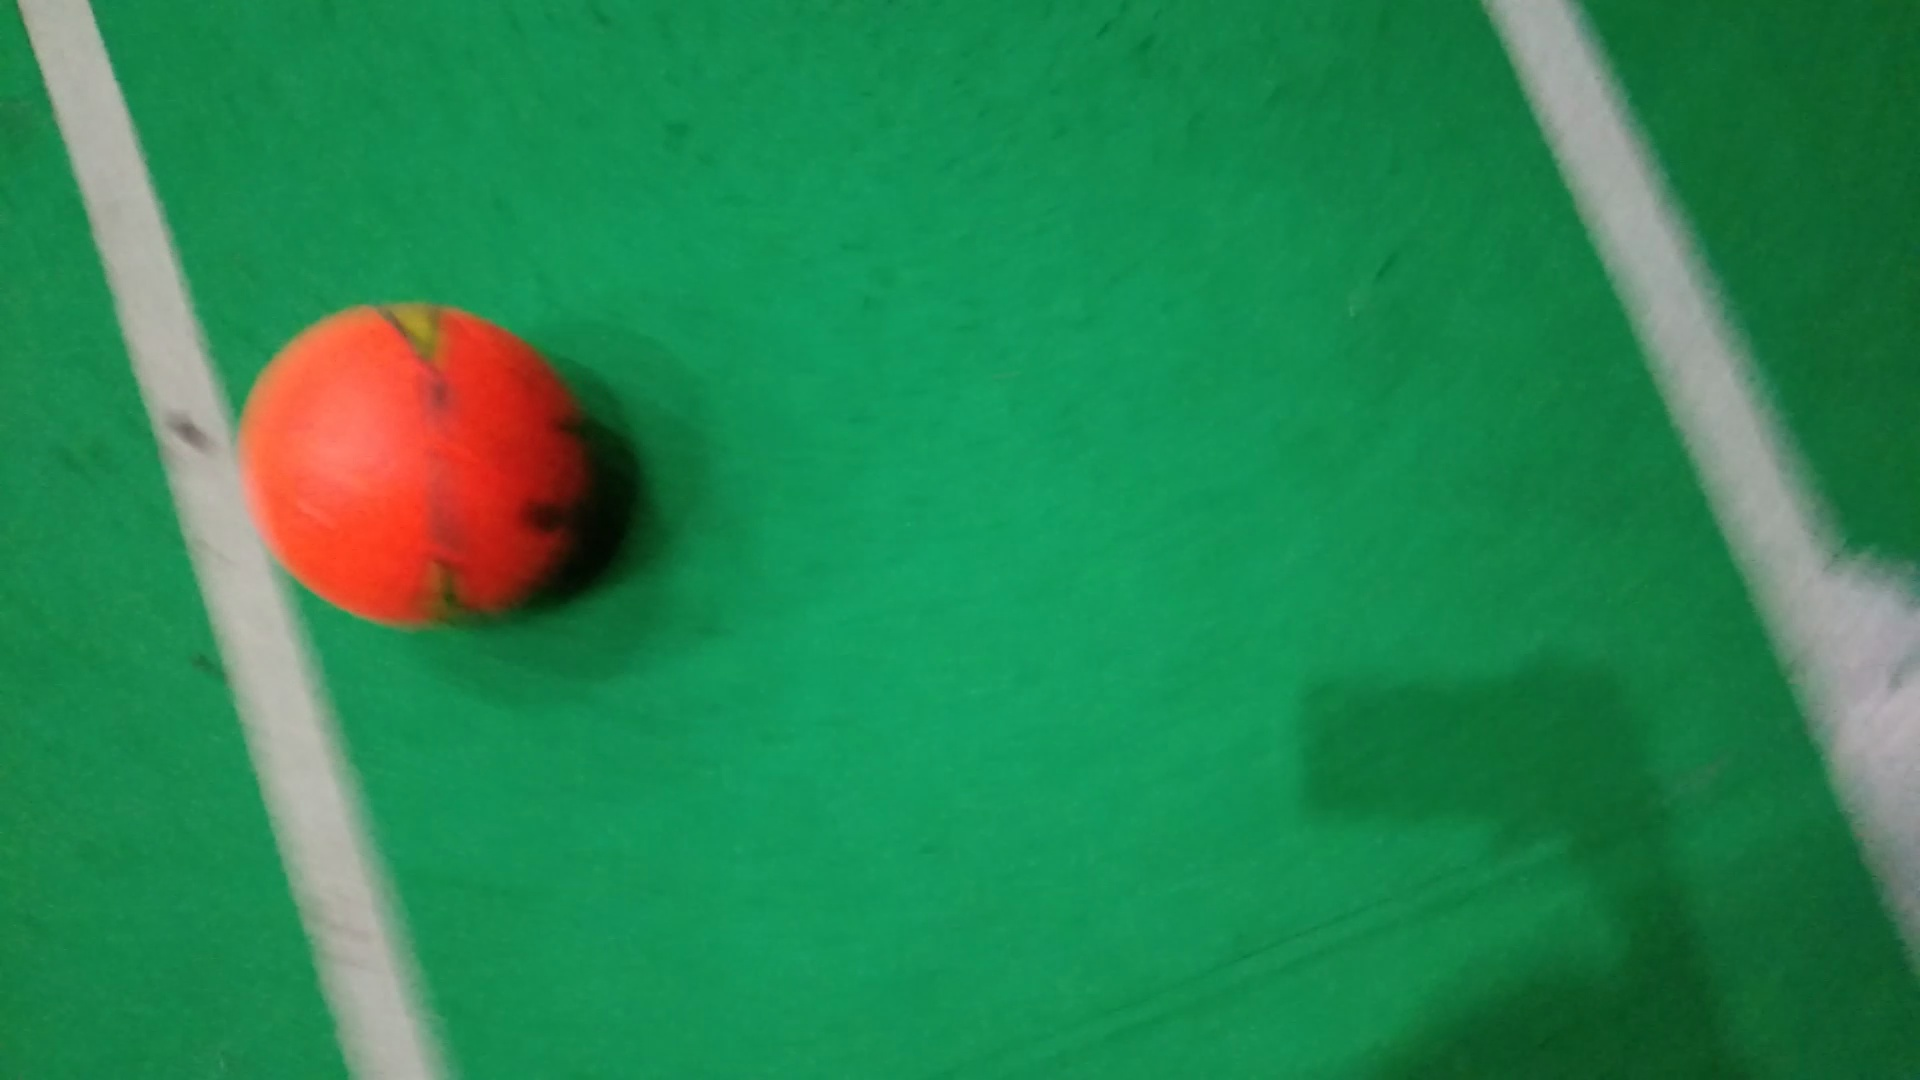bola: (232, 295, 607, 640)
